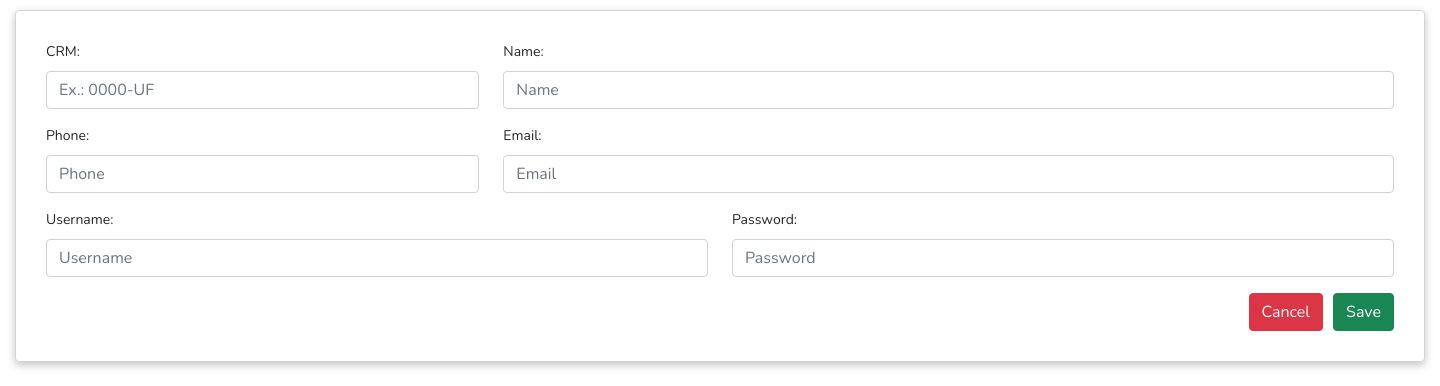
Test: clicks on the cancel button when creating a doctor
The width and height of the screenshot is (1440, 386).
Type "7777-RN" into the field with placeholder "Ex.: 0000-UF".
click(263, 90); type("7777-RN")  # box [46,71,479,109]
Type "Dr. João" into the field with placeholder "Name".
click(949, 90); type("Dr. João")  # box [503,71,1394,109]
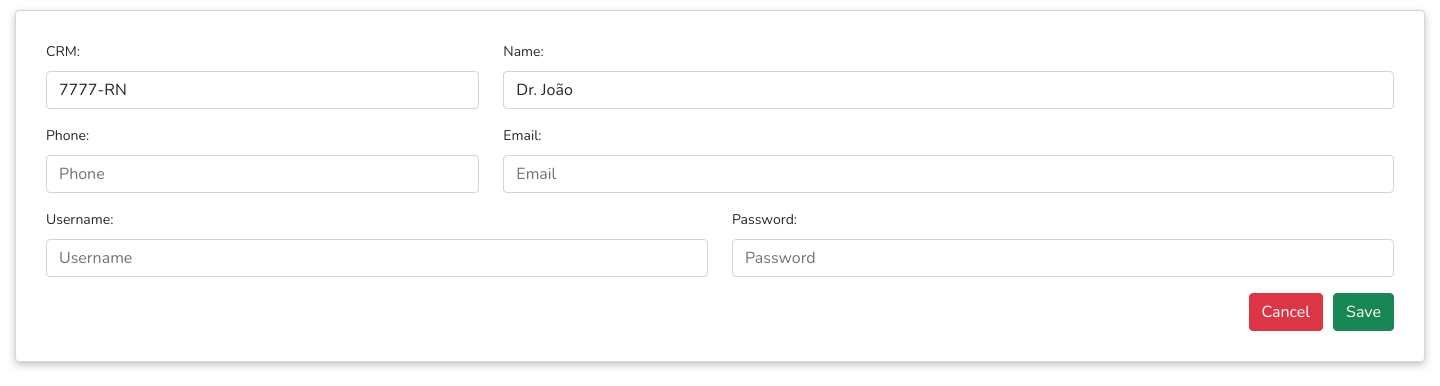
Type "joao" into the field with placeholder "Username".
click(377, 258); type("joao")  # box [46,239,708,277]
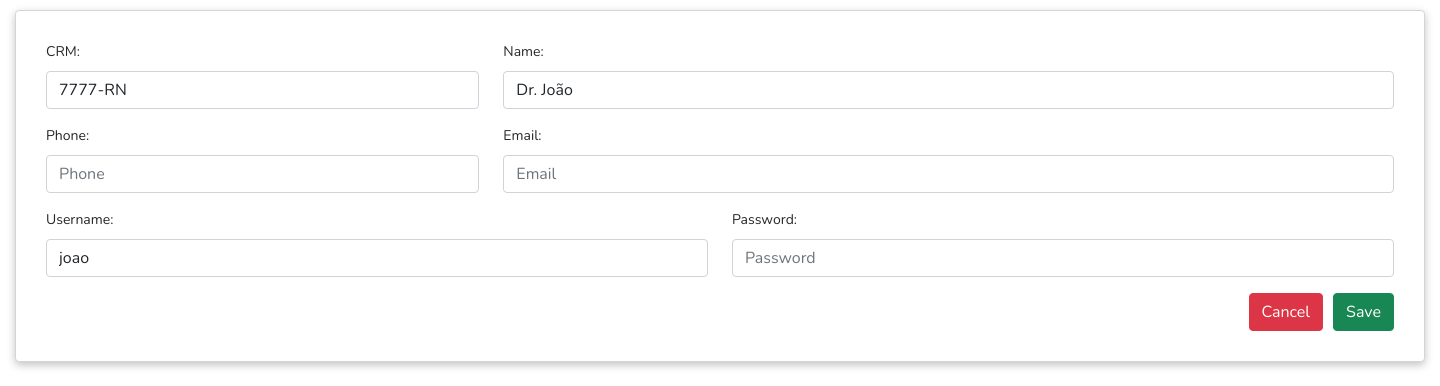
Type "123" into the password field with placeholder "Password".
click(1063, 258); type("123")  # box [732,239,1394,277]
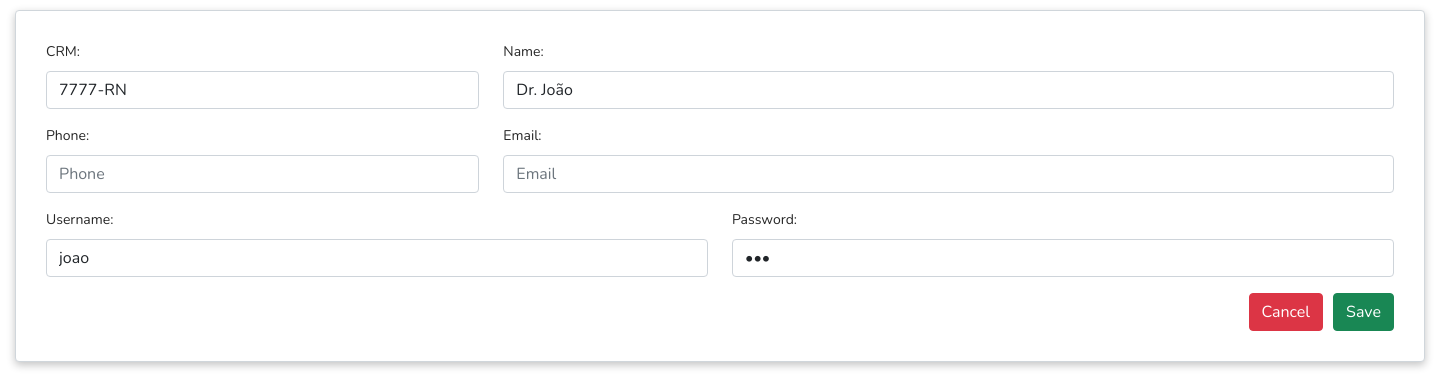
Type "84987745660" into the field with placeholder "Phone".
click(263, 174); type("84987745660")  # box [46,155,479,193]
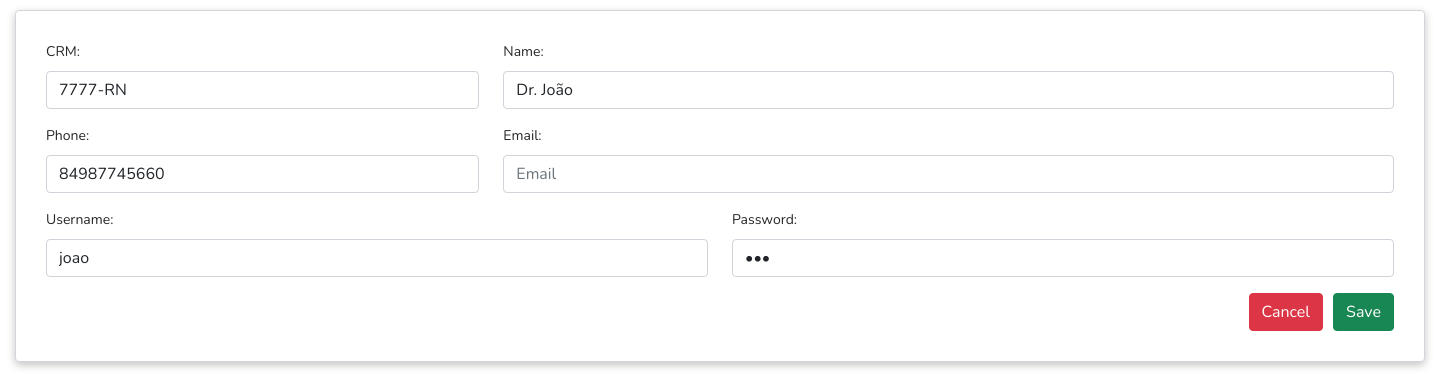
Type "joao@gmail.com" into the field with placeholder "Email".
click(949, 174); type("joao@gmail.com")  # box [503,155,1394,193]
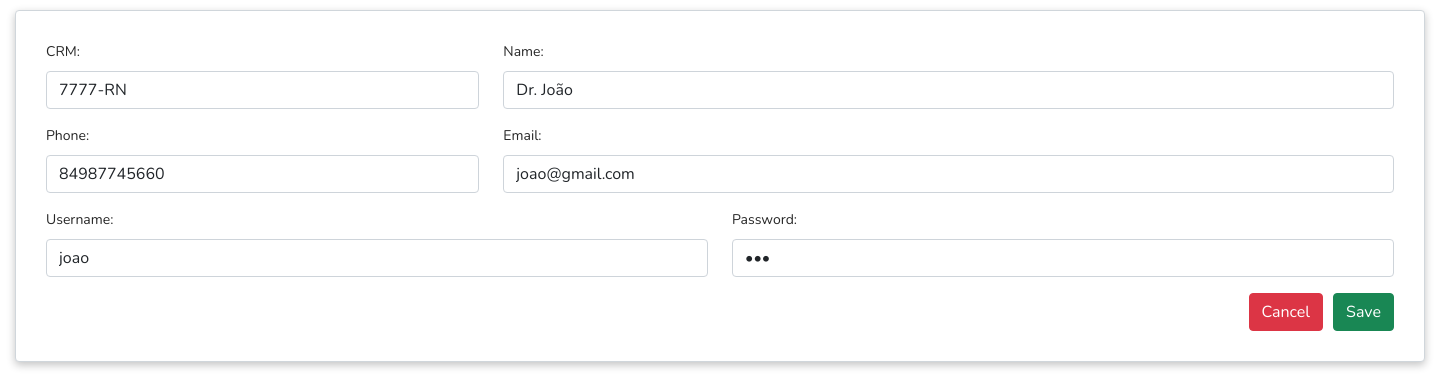
Click the button "Cancel".
click(1286, 312)  # box [1248,293,1323,331]
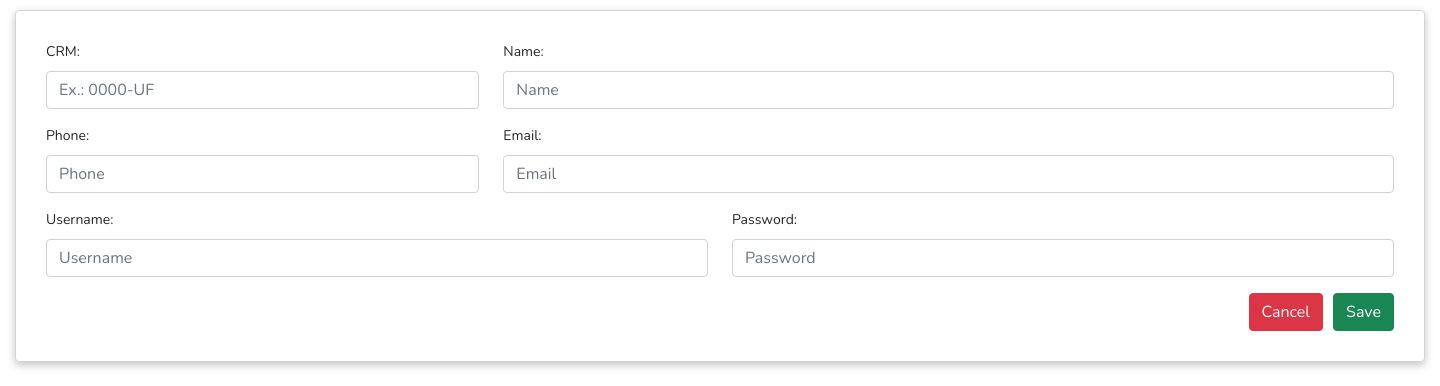
Now the field with placeholder "Ex.: 0000-UF" is empty, box [46,71,479,109]
Now the field with placeholder "Name" is empty, box [503,71,1394,109]
Now the field with placeholder "Username" is empty, box [46,239,708,277]
